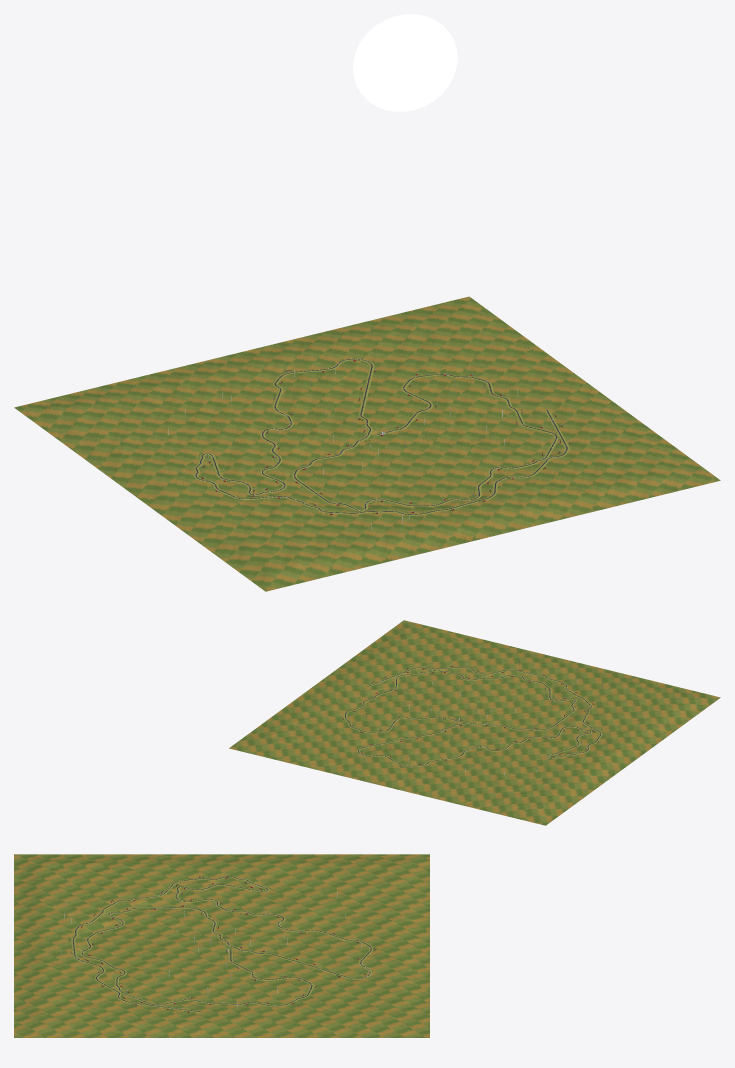
The model's file is prairie.glb.
3 renders of one model, top to bottom at view 1: azimuth 30°, elevation 25°; view 2: azimuth 150°, elevation 25°; view 3: azimuth 270°, elevation 25°, orthographic. The views are drawn at different scales.
Parts seen in each view (by area): view 1: Land_014, Land_018, Land_010, Land_015, Sun, Land_016, Land_009, Land_001, Land_002, Land_000, Land_017, Land_011 (+9 smaller); view 2: Land_014, Land_010, Land_018, Land_015, Land_009, Land_001, Land_016, Land_002, Land_000, Land_011, Land_017, Land_007 (+8 smaller); view 3: Land_014, Land_010, Land_018, Land_015, Land_009, Land_001, Land_016, Land_002, Land_000, Land_011, Land_017, Land_019 (+8 smaller).
Part boxes in pixels (x1,y1,x2,y2): Land_014: [14, 392, 244, 519]; Land_018: [521, 427, 720, 513]; Land_010: [76, 342, 324, 417]; Land_015: [167, 489, 330, 591]; Sun: [353, 14, 457, 111]; Land_016: [304, 505, 473, 582]; Land_009: [283, 296, 473, 387]; Land_001: [384, 299, 540, 403]; Land_002: [454, 349, 576, 443]; Land_000: [371, 387, 471, 459]; Land_017: [443, 472, 586, 540]; Land_011: [168, 403, 329, 453]; Land_014: [499, 737, 651, 825]; Land_010: [359, 747, 502, 814]; Land_018: [353, 620, 497, 676]; Land_015: [572, 691, 720, 747]; Land_009: [229, 736, 413, 779]; Land_001: [232, 711, 411, 746]; Land_016: [541, 662, 693, 706]; Land_002: [279, 686, 438, 716]; Land_000: [371, 696, 482, 727]; Land_011: [437, 735, 536, 782]; Land_017: [465, 643, 575, 679]; Land_007: [464, 700, 544, 735]; Land_014: [177, 854, 429, 902]; Land_010: [307, 879, 429, 962]; Land_018: [14, 971, 156, 1037]; Land_015: [14, 854, 194, 905]; Land_009: [313, 952, 429, 1037]; Land_001: [272, 968, 422, 1037]; Land_016: [14, 870, 123, 940]; Land_002: [166, 975, 311, 1037]; Land_000: [170, 948, 286, 991]; Land_011: [237, 895, 355, 945]; Land_017: [14, 937, 112, 983]; Land_019: [134, 1005, 251, 1037].
Size of what is drawn, in the model's own units: 5443 by 1154 by 6677.
